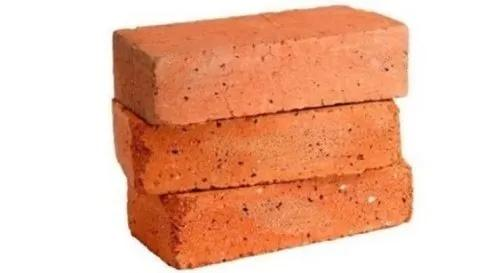brick: (153, 24, 410, 123), (175, 164, 414, 269), (141, 101, 399, 196)
